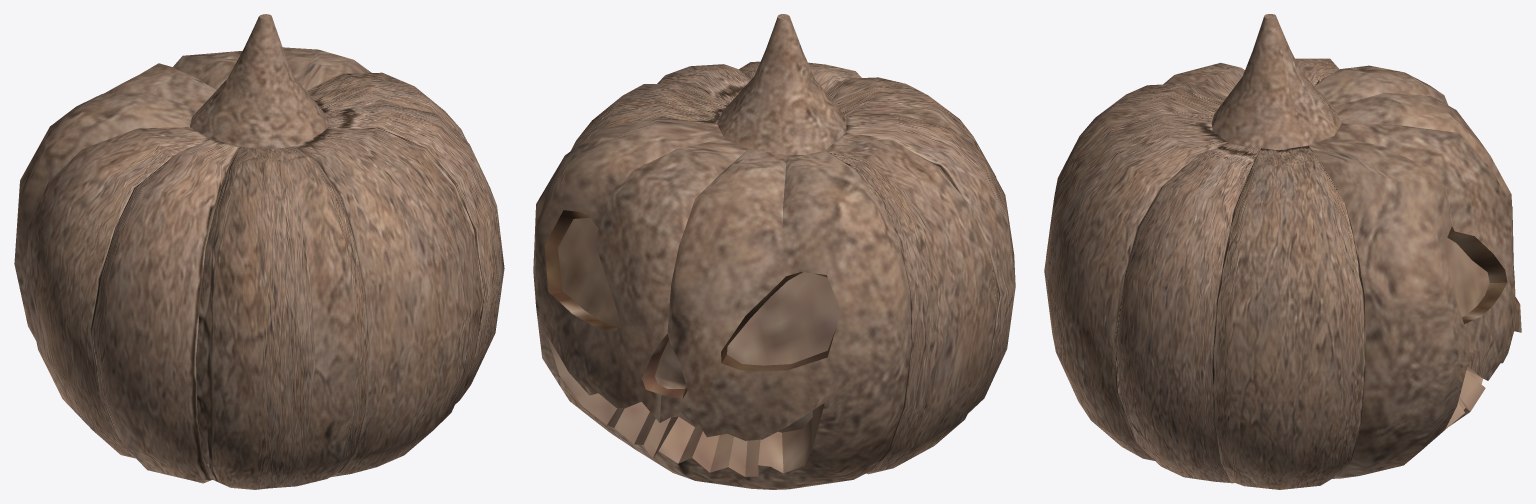
File: Stone_Pumpkin_2.fbx
3 renders of one model, left to right at view 1: azimuth 30°, elevation 25°; view 2: azimuth 150°, elevation 25°; view 3: azimuth 270°, elevation 25°, orthographic.
Visible parts, largest first — view 1: Stone_Pumpkin_2; view 2: Stone_Pumpkin_2; view 3: Stone_Pumpkin_2.
Part boxes in pixels (<box>): Stone_Pumpkin_2: <box>14,14,504,489</box>; Stone_Pumpkin_2: <box>533,14,1015,489</box>; Stone_Pumpkin_2: <box>1044,14,1521,489</box>.
Bounding box in the file's own units: 105 × 100 × 103.
